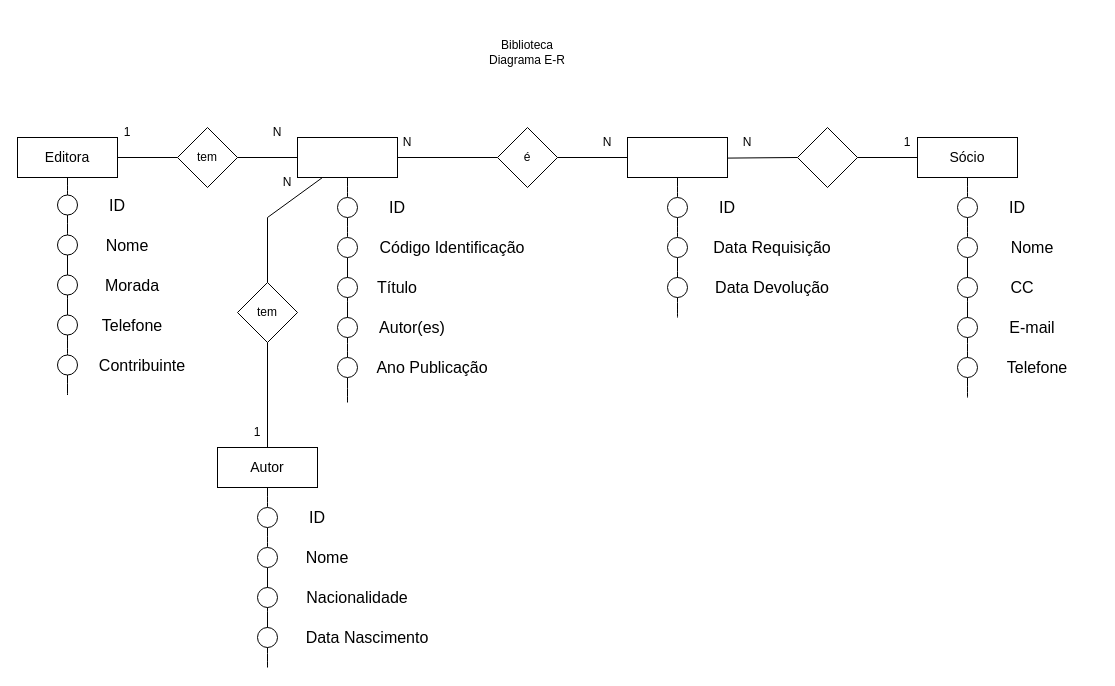
This 1115x686 diagram has some shape labels left out. The shapes that lost their labels are listed below. From the top down, each one's centre as x and y in pixels, then its label:
At [347,157]: "Livro".
At [677,157]: "Requisição".
At [827,157]: "pode".
